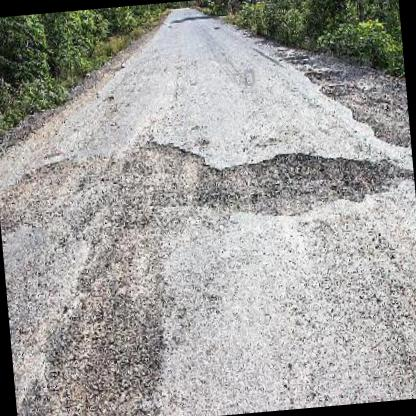pothole: (220, 142, 402, 218), (138, 133, 216, 219)
